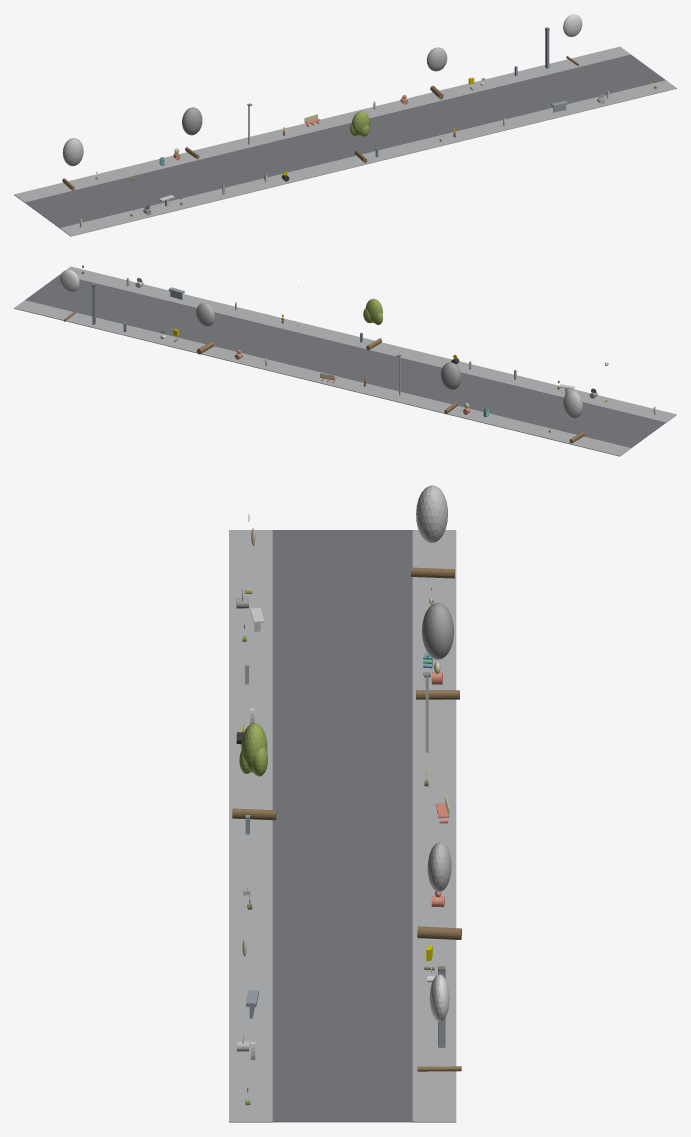
The picture shows the model from 3 angles, top to bottom: view 1: azimuth 30°, elevation 25°; view 2: azimuth 150°, elevation 25°; view 3: azimuth 270°, elevation 25°; orthographic projection. The views are drawn at different scales.
Parts seen in each view (by area): view 1: road_slab, sidewalk_left, sidewalk_right, inst_0012, inst_0013, inst_0014, inst_0015, inst_0016; view 2: road_slab, sidewalk_right, sidewalk_left, inst_0012, inst_0013, inst_0014, inst_0015, inst_0016; view 3: road_slab, sidewalk_left, sidewalk_right, inst_0012, inst_0013, inst_0014, inst_0015, inst_0016.
Boxes of the visible parts, left/top/right/bottom form: road_slab: left=25, top=54, right=665, bottom=228; sidewalk_left: left=60, top=80, right=676, bottom=236; sidewalk_right: left=14, top=46, right=630, bottom=202; inst_0012: left=62, top=138, right=83, bottom=190; inst_0013: left=182, top=107, right=202, bottom=159; inst_0014: left=350, top=111, right=369, bottom=163; inst_0015: left=426, top=47, right=447, bottom=99; inst_0016: left=563, top=14, right=582, bottom=65; road_slab: left=25, top=274, right=665, bottom=448; sidewalk_right: left=14, top=300, right=630, bottom=456; sidewalk_left: left=60, top=266, right=676, bottom=422; inst_0012: left=563, top=390, right=584, bottom=443; inst_0013: left=440, top=362, right=461, bottom=414; inst_0014: left=363, top=298, right=382, bottom=350; inst_0015: left=196, top=302, right=214, bottom=354; inst_0016: left=60, top=269, right=79, bottom=321; road_slab: left=272, top=530, right=412, bottom=1122; sidewalk_left: left=229, top=530, right=272, bottom=1122; sidewalk_right: left=412, top=530, right=456, bottom=1122; inst_0012: left=411, top=485, right=454, bottom=578; inst_0013: left=416, top=602, right=459, bottom=699; inst_0014: left=232, top=723, right=276, bottom=820; inst_0015: left=417, top=842, right=461, bottom=939; inst_0016: left=417, top=974, right=461, bottom=1071.
Bounding box in the file's own units: 80 × 6.08 × 13.31.
